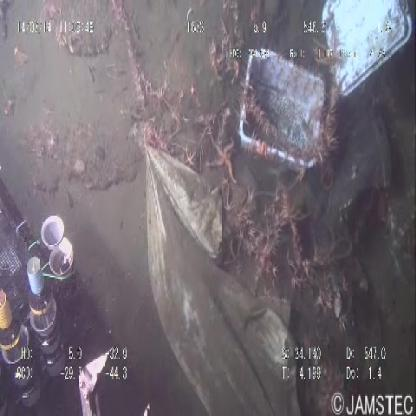Rov: (1, 140, 158, 416)
Rác: (222, 2, 416, 188)
